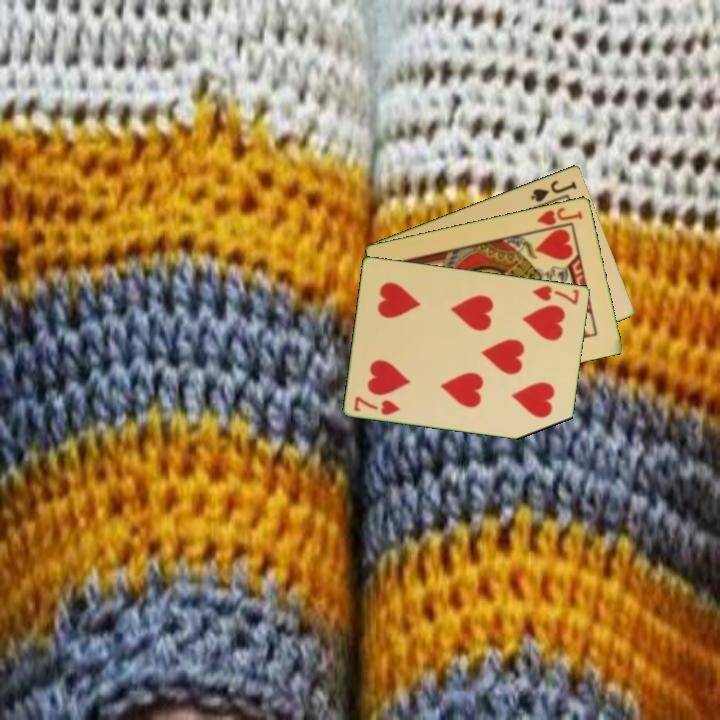7h: (529, 282, 582, 307), (351, 393, 404, 418)
Jh: (533, 204, 586, 228)
Js: (527, 176, 580, 205)
